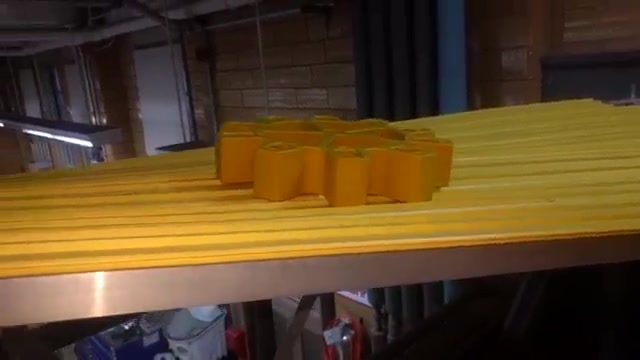gear: (214, 109, 466, 209)
